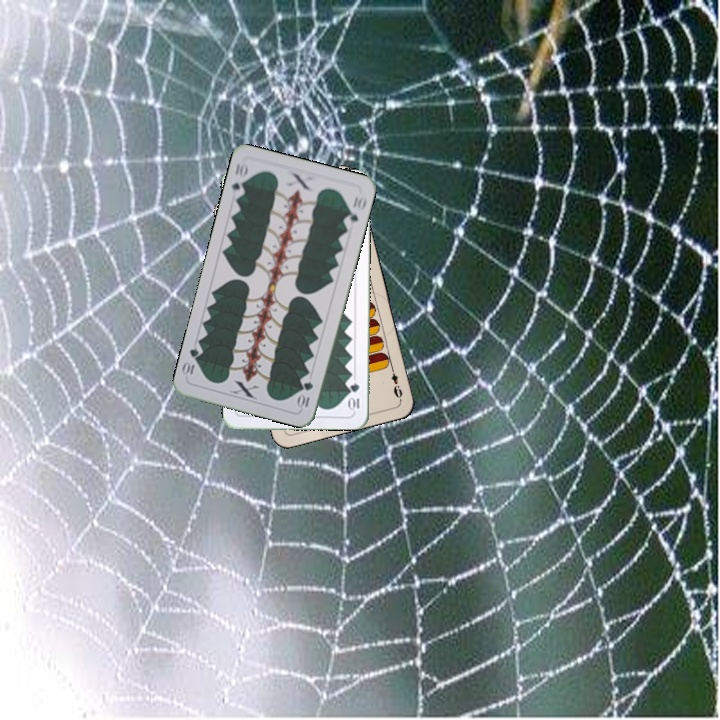E9: (387, 362, 405, 402)
G10: (227, 158, 251, 200), (294, 377, 316, 411), (346, 379, 362, 413)
